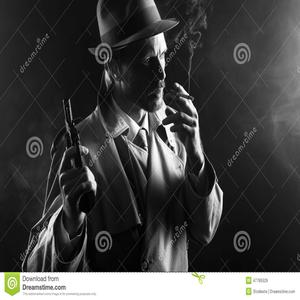cigarette: (163, 86, 196, 103)
